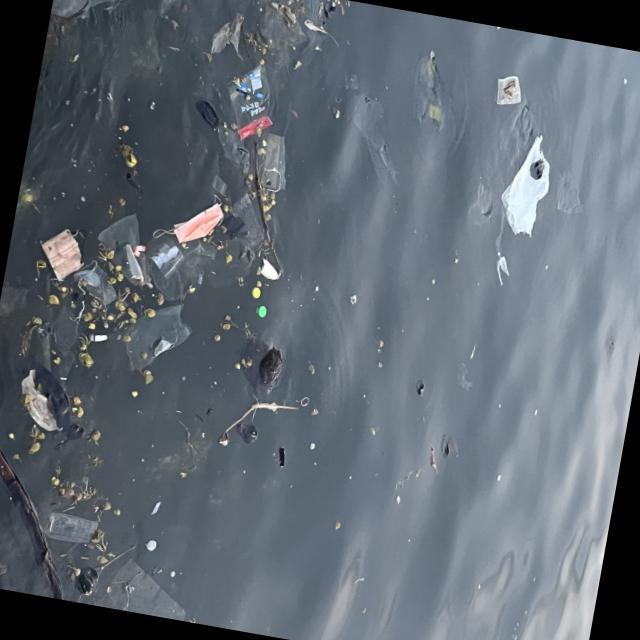foam: (258, 259, 281, 281)
plastic bag: (502, 133, 552, 243)
